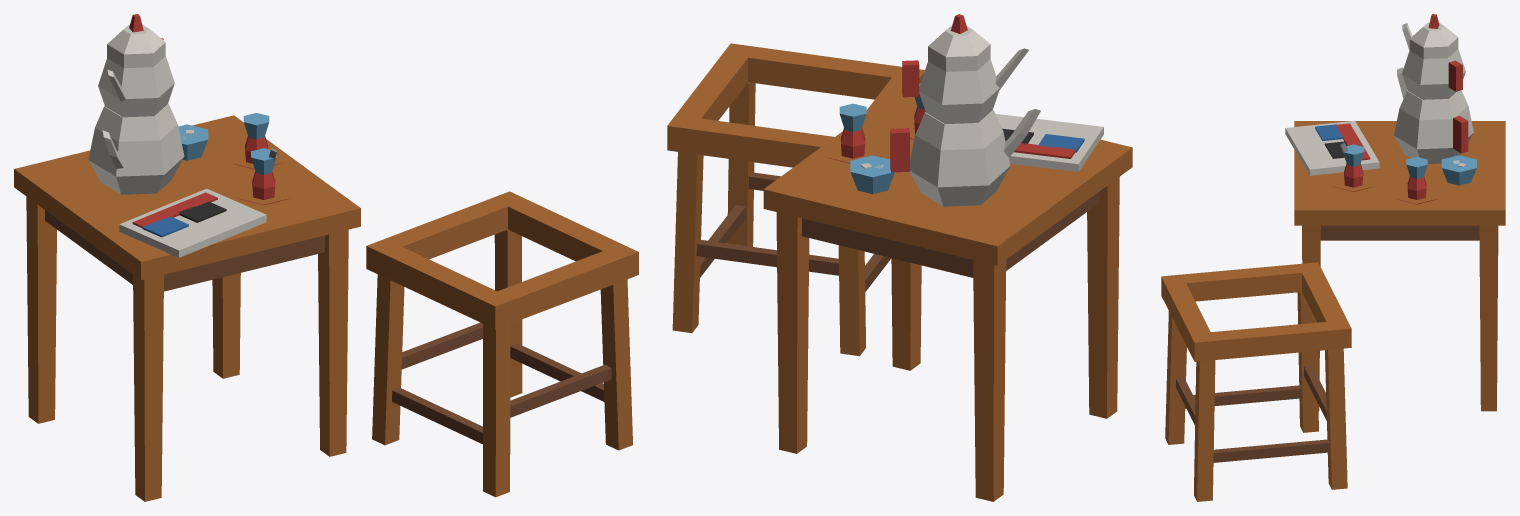
Rendered from cay_kosesi.glb.
The picture shows the model from 3 angles, left to right: view 1: azimuth 30°, elevation 25°; view 2: azimuth 150°, elevation 25°; view 3: azimuth 270°, elevation 25°; orthographic projection. The views are drawn at different scales.
Parts seen in each view (by area): view 1: cay_kosesi; view 2: cay_kosesi; view 3: cay_kosesi.
Boxes of the visible parts, <box> form: cay_kosesi: <box>14,14,638,501</box>; cay_kosesi: <box>667,14,1132,501</box>; cay_kosesi: <box>1161,14,1505,501</box>.
Bounding box in the file's own units: 0.9954 × 0.895 × 0.8154.
